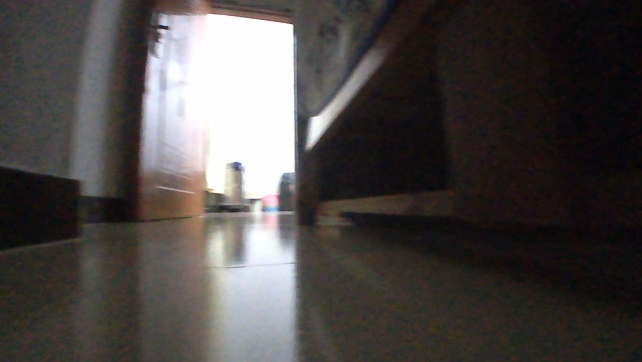door_anno: (120, 0, 214, 223)
